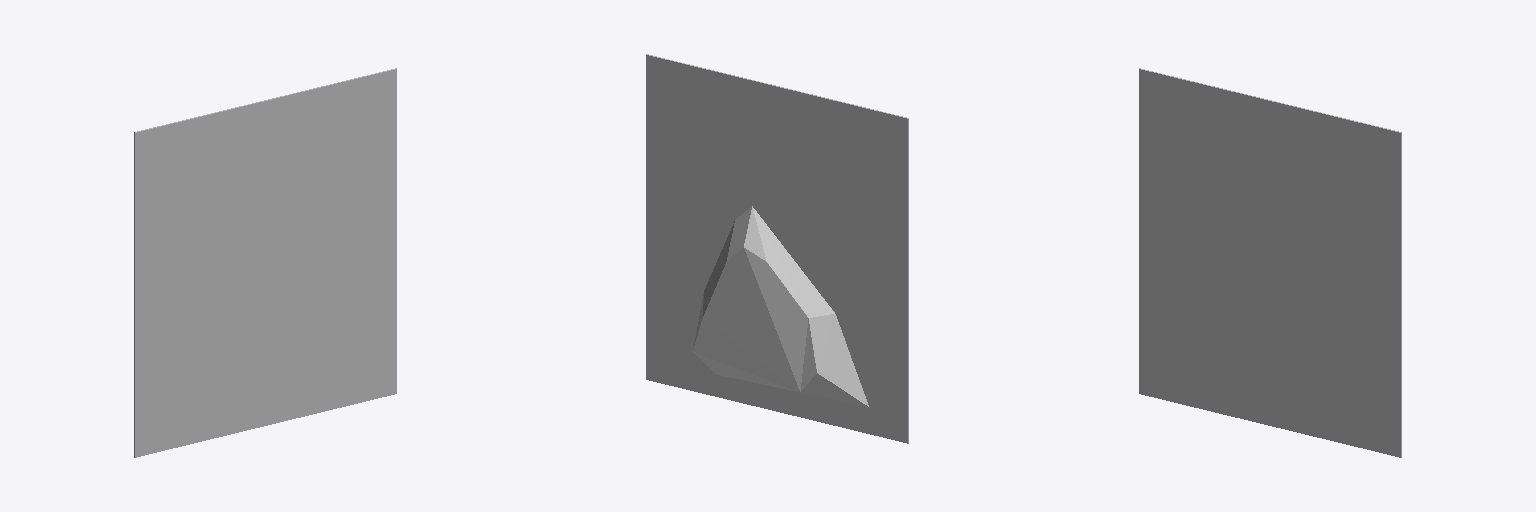
Rendered from sea_chicken.obj.
3 views of the same model, side by side, from view 1: azimuth 30°, elevation 25°; view 2: azimuth 150°, elevation 25°; view 3: azimuth 330°, elevation 25° (orthographic).
Visible parts, largest first — view 1: pack_立方体; view 2: pack_立方体, chken_cheken; view 3: pack_立方体.
Part boxes in pixels (x1,y1,x2,y2): pack_立方体: (134, 68, 396, 457); pack_立方体: (646, 54, 908, 443); chken_cheken: (693, 206, 868, 406); pack_立方体: (1139, 68, 1401, 457).
Bounding box in the file's own units: 1.97 × 2.33 × 0.263.